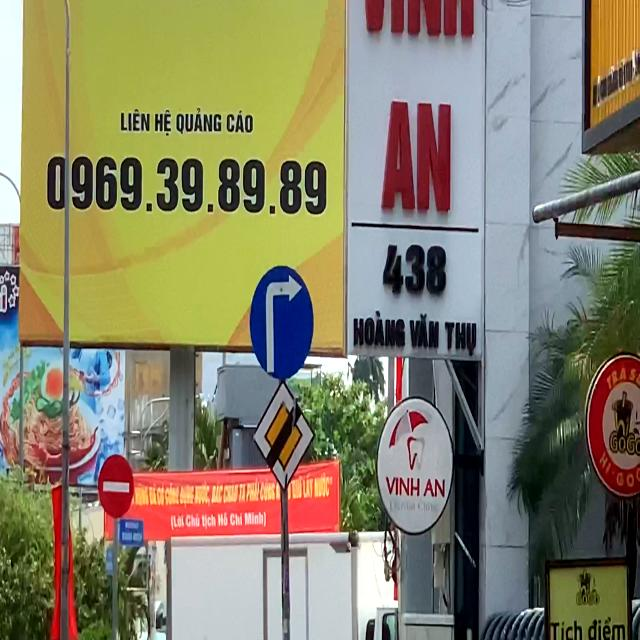P.102: (98, 454, 134, 520)
R.301d: (249, 265, 314, 379)
